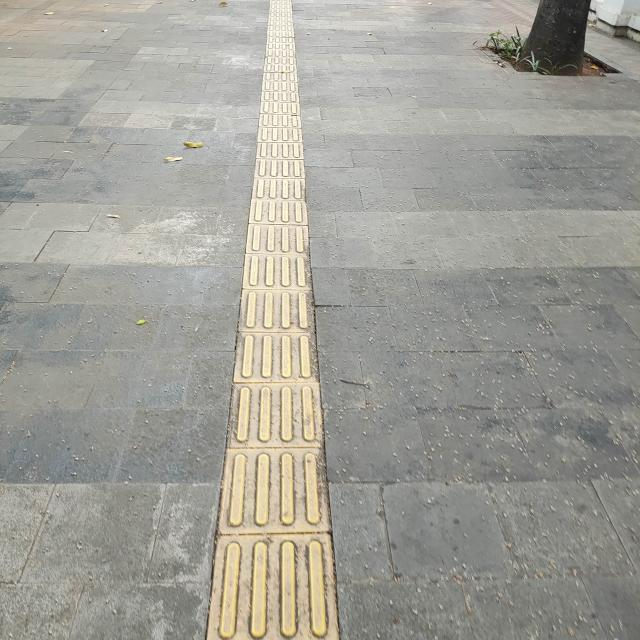lurus: (207, 0, 329, 640)
